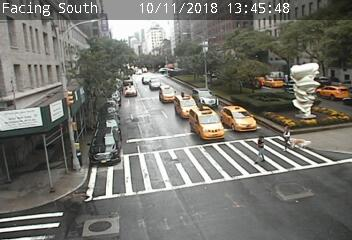car: (190, 106, 224, 140), (88, 129, 119, 165), (221, 105, 258, 133), (175, 94, 199, 118), (192, 88, 219, 109), (317, 85, 350, 99), (160, 85, 176, 103), (264, 78, 284, 87), (149, 79, 162, 90), (125, 85, 137, 96)
